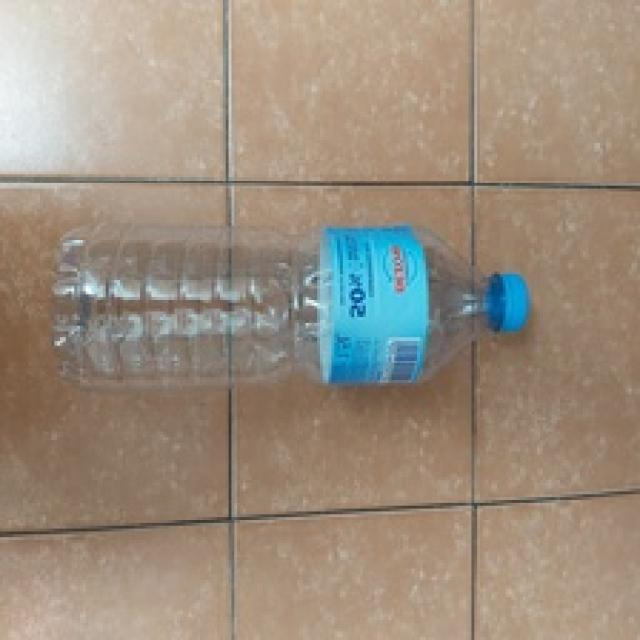plastic: (3, 213, 570, 403)
